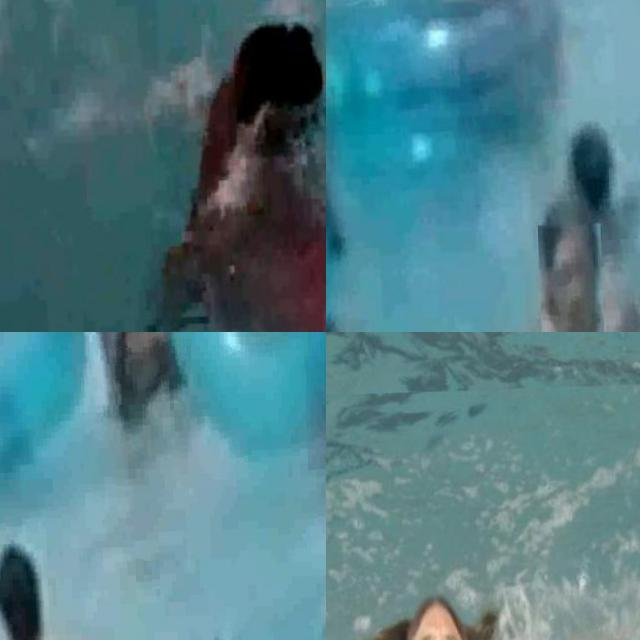drowning: (326, 381, 640, 640), (132, 0, 326, 332), (563, 106, 640, 221)
swimming: (91, 332, 190, 445), (0, 545, 108, 640), (537, 222, 606, 332), (612, 286, 640, 332), (326, 298, 360, 332)
